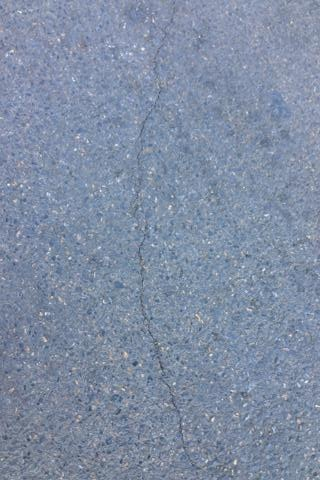A: (132, 8, 202, 467)
